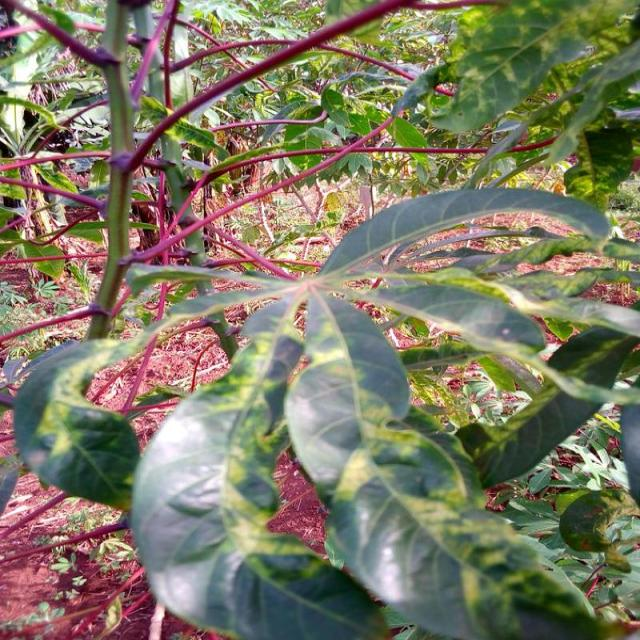cassava leaf: (130, 292, 396, 638), (13, 337, 142, 511)
